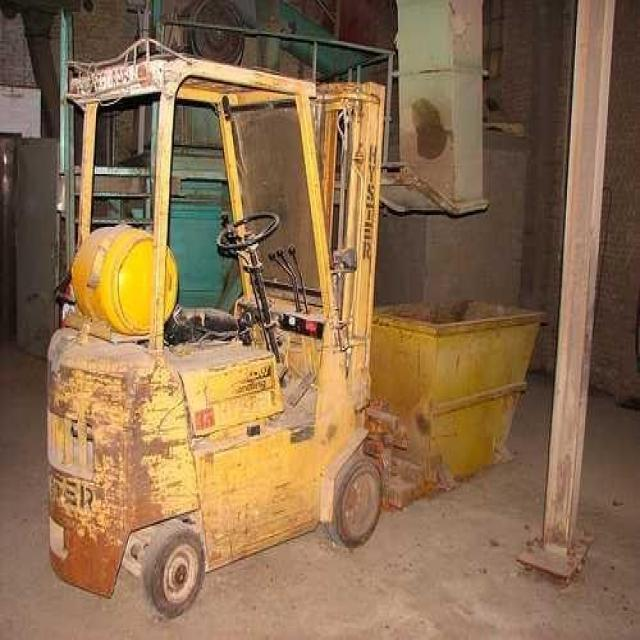forklift: (46, 39, 387, 620)
